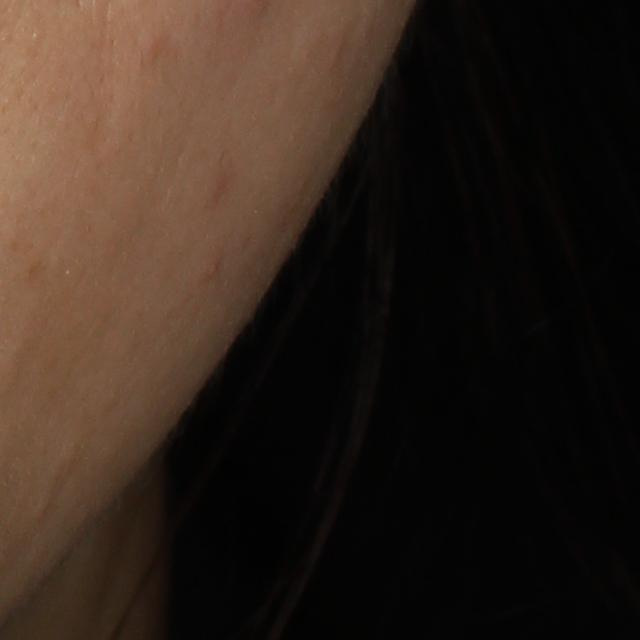papule: (202, 259, 221, 280)
